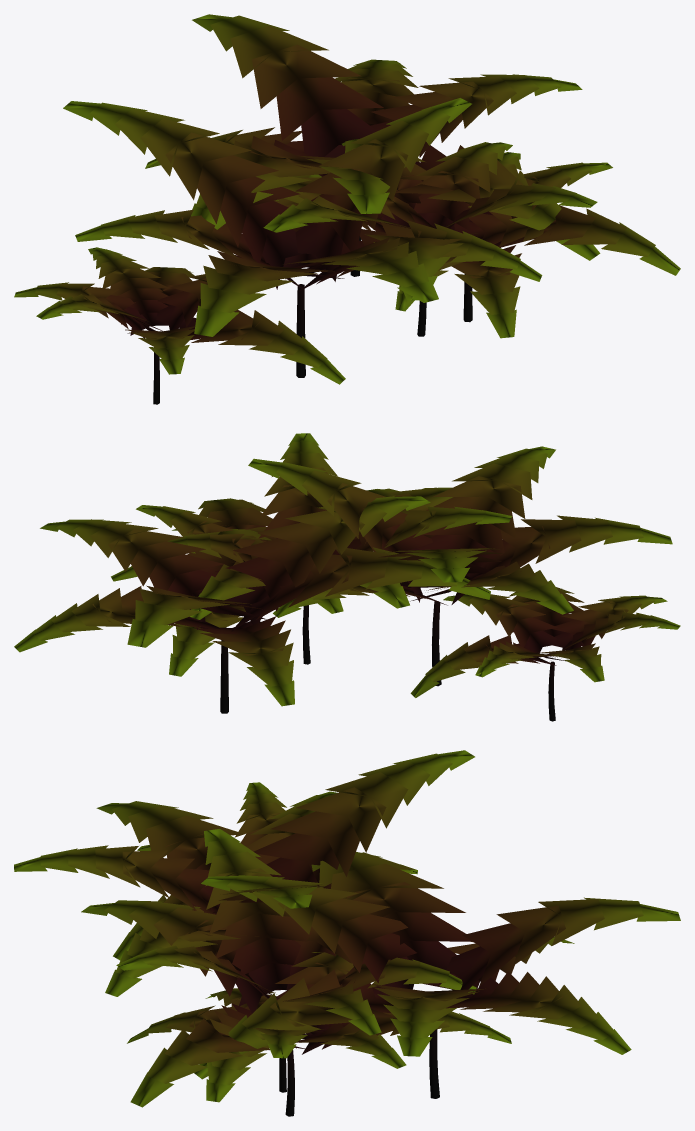
The model's file is patch_palm_far.glb.
3 renders of one model, top to bottom at view 1: azimuth 30°, elevation 25°; view 2: azimuth 150°, elevation 25°; view 3: azimuth 270°, elevation 25°, orthographic. The views are drawn at different scales.
Visible parts, largest first — view 1: patch_palm_far; view 2: patch_palm_far; view 3: patch_palm_far.
Part boxes in pixels (x1,y1,x2,y2): patch_palm_far: [14, 14, 680, 404]; patch_palm_far: [14, 433, 680, 721]; patch_palm_far: [14, 750, 680, 1116].
Size of the model in its own units: 12.84 by 4.44 by 12.31.
Materials: 1 (1 with a texture image).
